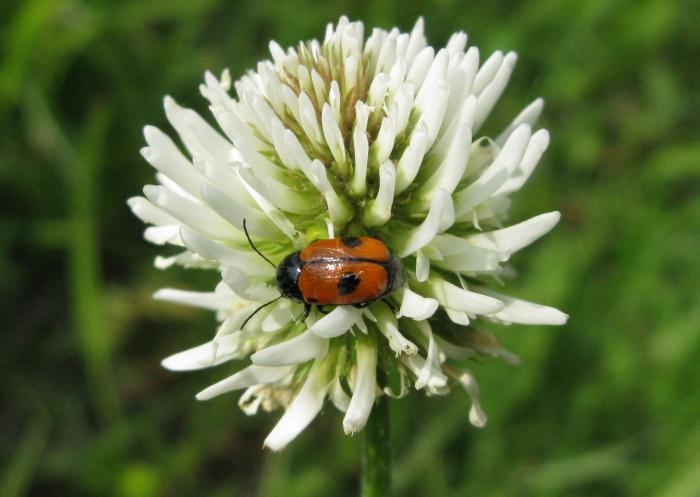Cryptocephalus_bipunctatus: (235, 213, 405, 333)
